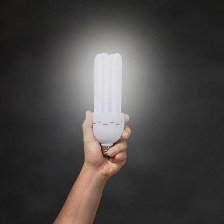light_bulb: (87, 46, 131, 161)
